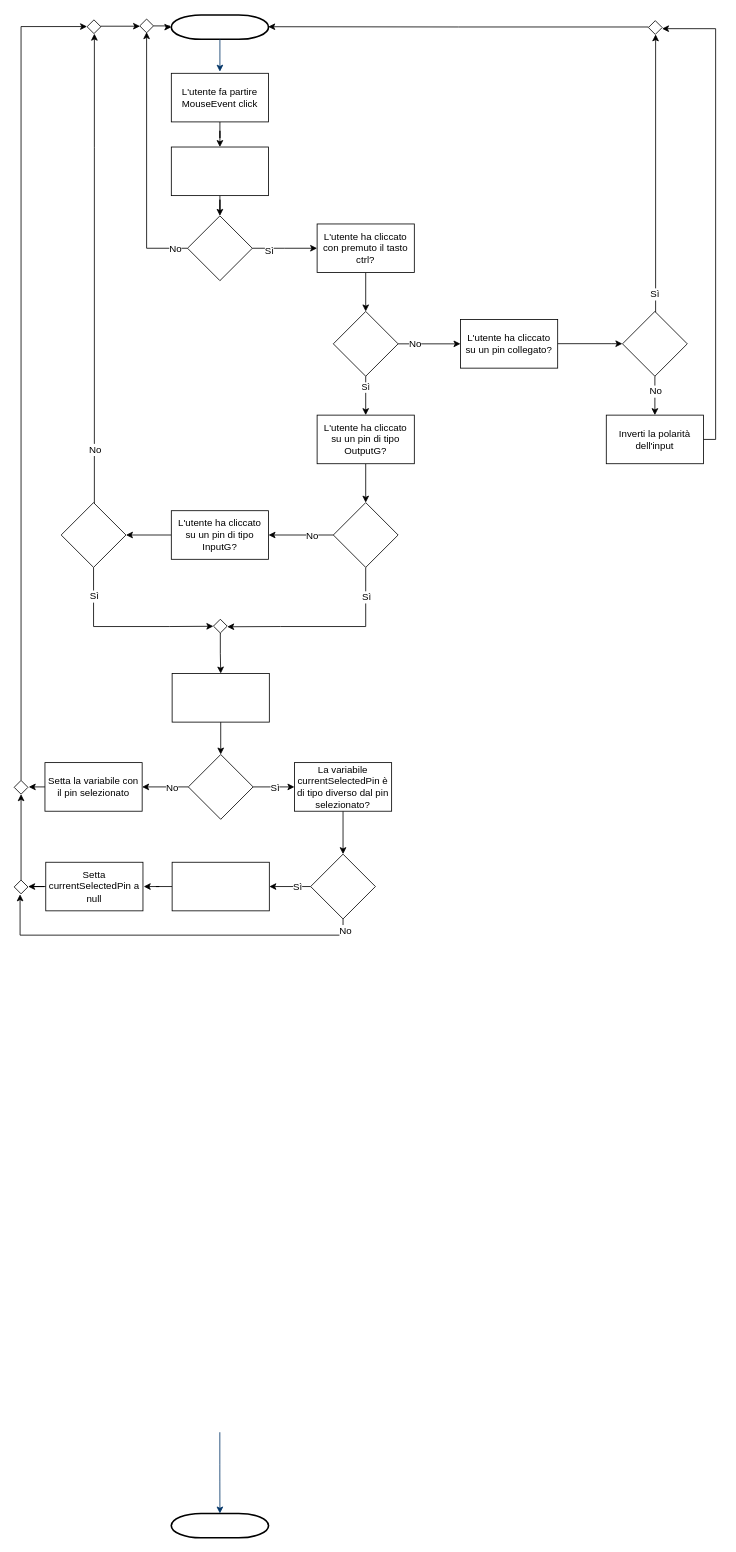
Some shapes in this 736 by 1552 pixel diagram are drawn without their labels. The box of each missing label's shape, as (x1, y1, x2, y2) in pixels:
Collega i due pin: (171, 861, 269, 911)
end: (170, 1512, 269, 1538)
L'utente ha premuto sul pin di una porta logica?: (171, 146, 269, 196)
La variabile currentSelectedPin è già settata?: (171, 673, 269, 722)
start: (170, 14, 269, 40)
